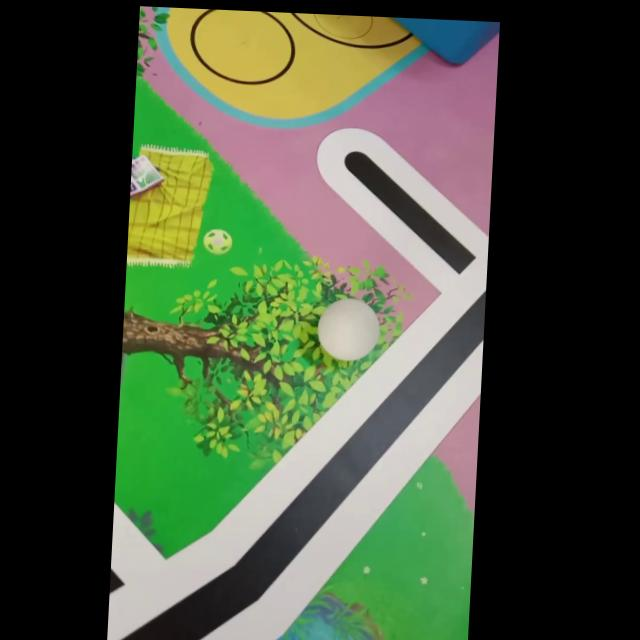white ball: (314, 296, 381, 363)
